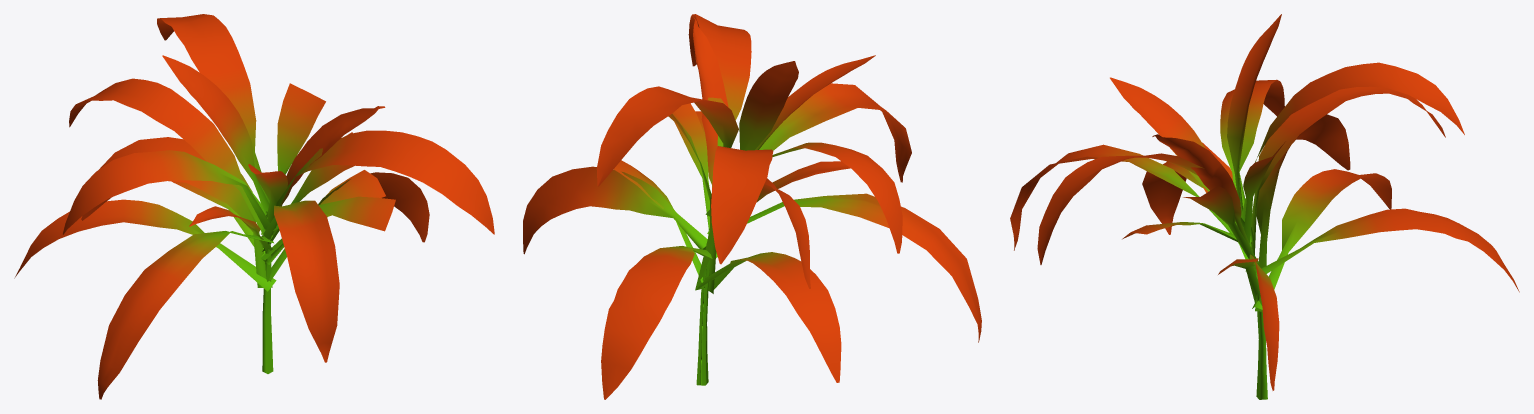
The model's file is Pink Cordyline_LOD0_Var3_sfhhN.fbx.
The picture shows the model from 3 angles, left to right: view 1: azimuth 30°, elevation 25°; view 2: azimuth 150°, elevation 25°; view 3: azimuth 270°, elevation 25°; orthographic projection. The views are drawn at different scales.
Visible parts, largest first — view 1: _efc2_Var3_LOD0; view 2: _efc2_Var3_LOD0; view 3: _efc2_Var3_LOD0.
Part boxes in pixels (x1,y1,x2,y2): _efc2_Var3_LOD0: (14, 14, 494, 399); _efc2_Var3_LOD0: (523, 14, 981, 399); _efc2_Var3_LOD0: (1010, 14, 1519, 399).
Size of the model in its own units: 73.63 by 61.71 by 84.64.
